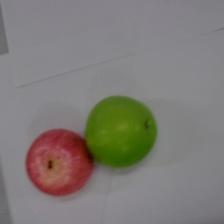green: (84, 94, 158, 168)
red: (25, 127, 95, 197)
